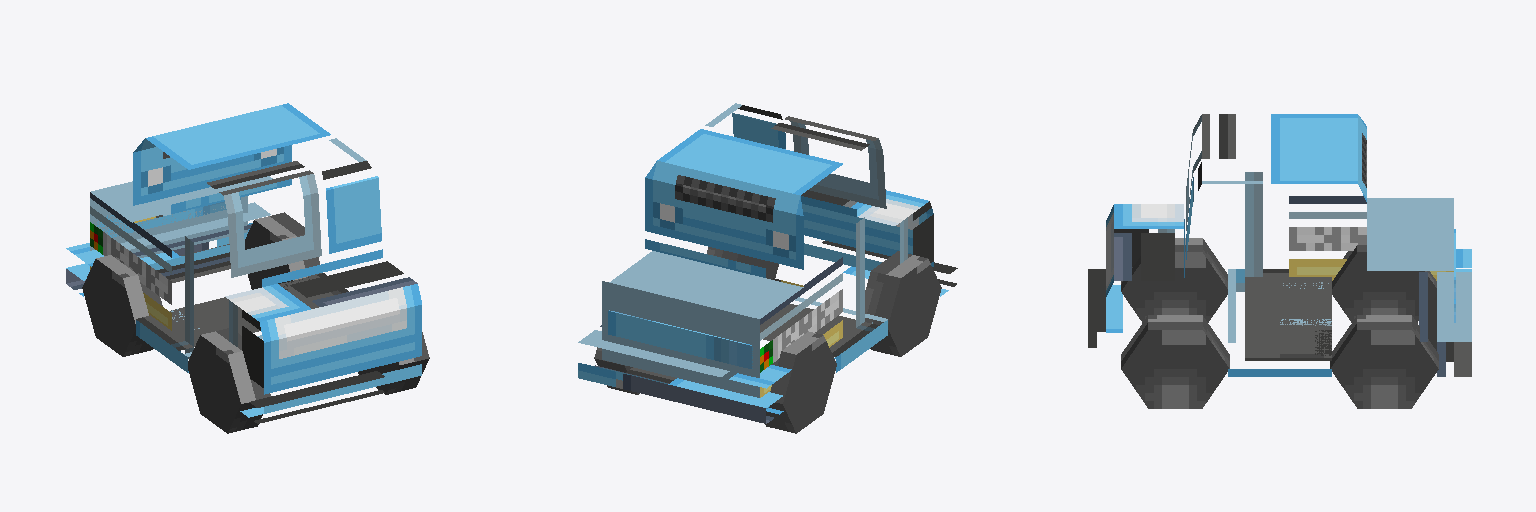
3 renders of one model, left to right at view 1: azimuth 30°, elevation 25°; view 2: azimuth 150°, elevation 25°; view 3: azimuth 270°, elevation 25°, orthographic.
Visible parts, largest first — view 1: meshes[4], meshes[2], meshes[3], meshes[1], meshes[0]; view 2: meshes[4], meshes[2], meshes[3], meshes[0]; view 3: meshes[4], meshes[0], meshes[1], meshes[2], meshes[3].
Part boxes in pixels (x1,y1,x2,y2): meshes[4]: (66, 103, 421, 423); meshes[2]: (188, 328, 270, 433); meshes[3]: (82, 255, 162, 356); meshes[1]: (245, 212, 321, 289); meshes[0]: (358, 332, 429, 394); meshes[4]: (578, 103, 957, 423); meshes[2]: (865, 251, 941, 356); meshes[3]: (765, 331, 836, 433); meshes[0]: (707, 247, 778, 279); meshes[4]: (1088, 114, 1471, 376); meshes[0]: (1121, 315, 1229, 408); meshes[1]: (1330, 315, 1438, 408); meshes[2]: (1121, 238, 1227, 322); meshes[3]: (1332, 245, 1436, 322).
Size of the model in its own units: 1.56 by 1.69 by 2.75.
2 materials, 2 textured.